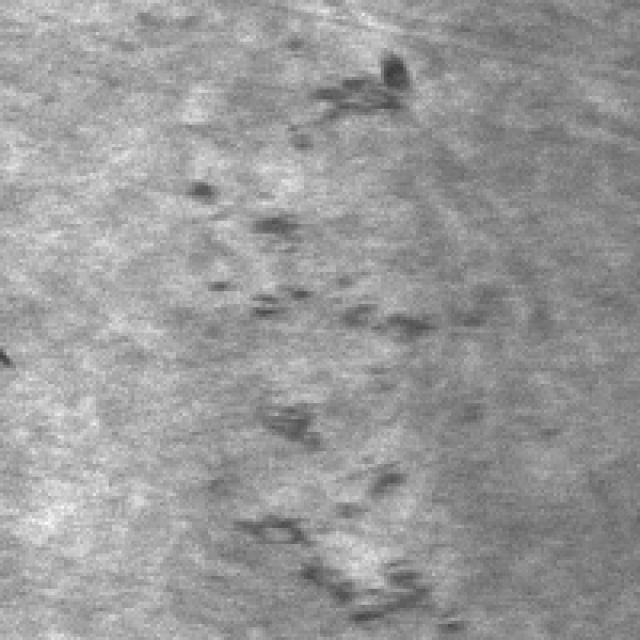rolled-in_scale: (246, 204, 448, 634), (278, 38, 429, 160)
